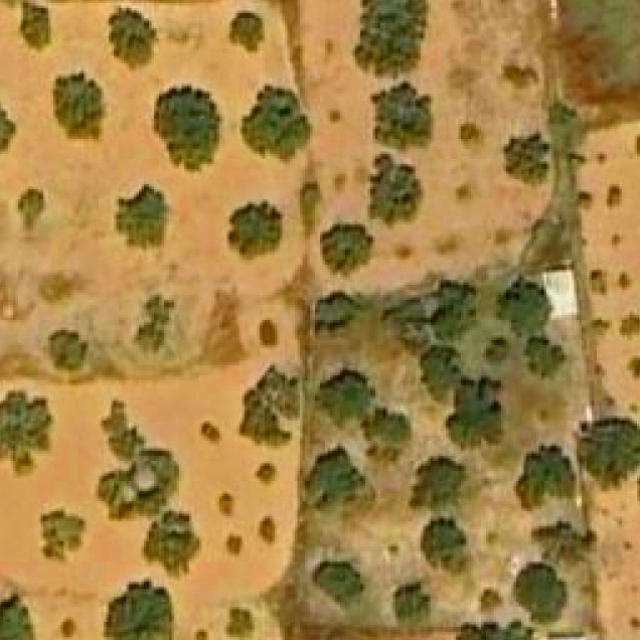Tree: (351, 0, 431, 78), (98, 444, 181, 519), (151, 87, 221, 172), (239, 87, 310, 162), (443, 372, 503, 451), (369, 84, 433, 157), (0, 390, 54, 475), (241, 365, 297, 446), (577, 418, 640, 489), (104, 578, 175, 640), (50, 71, 106, 145), (369, 154, 423, 229), (513, 444, 574, 509), (114, 184, 174, 248), (405, 451, 474, 506), (531, 514, 594, 572), (305, 449, 365, 509), (226, 199, 282, 263), (109, 6, 164, 71), (312, 370, 375, 426), (493, 275, 552, 333), (319, 221, 372, 280), (513, 563, 564, 622), (423, 513, 473, 572), (501, 129, 552, 184), (149, 514, 199, 570), (431, 282, 479, 340), (40, 509, 86, 565), (133, 290, 176, 348), (312, 561, 365, 607), (421, 345, 461, 401), (315, 290, 355, 338), (523, 335, 567, 378), (392, 580, 430, 625), (20, 1, 50, 54), (364, 408, 408, 444), (50, 330, 86, 370), (226, 13, 262, 51), (0, 598, 31, 640), (504, 58, 542, 88), (0, 99, 16, 167), (224, 607, 254, 640), (300, 182, 320, 228), (456, 117, 481, 152), (256, 320, 282, 348), (54, 617, 84, 640), (256, 514, 276, 548), (584, 270, 608, 298), (254, 456, 276, 486), (18, 187, 43, 212), (198, 420, 222, 446), (620, 312, 640, 342), (604, 187, 624, 212), (574, 192, 592, 218), (216, 494, 236, 517), (225, 534, 242, 558), (630, 352, 640, 378)
